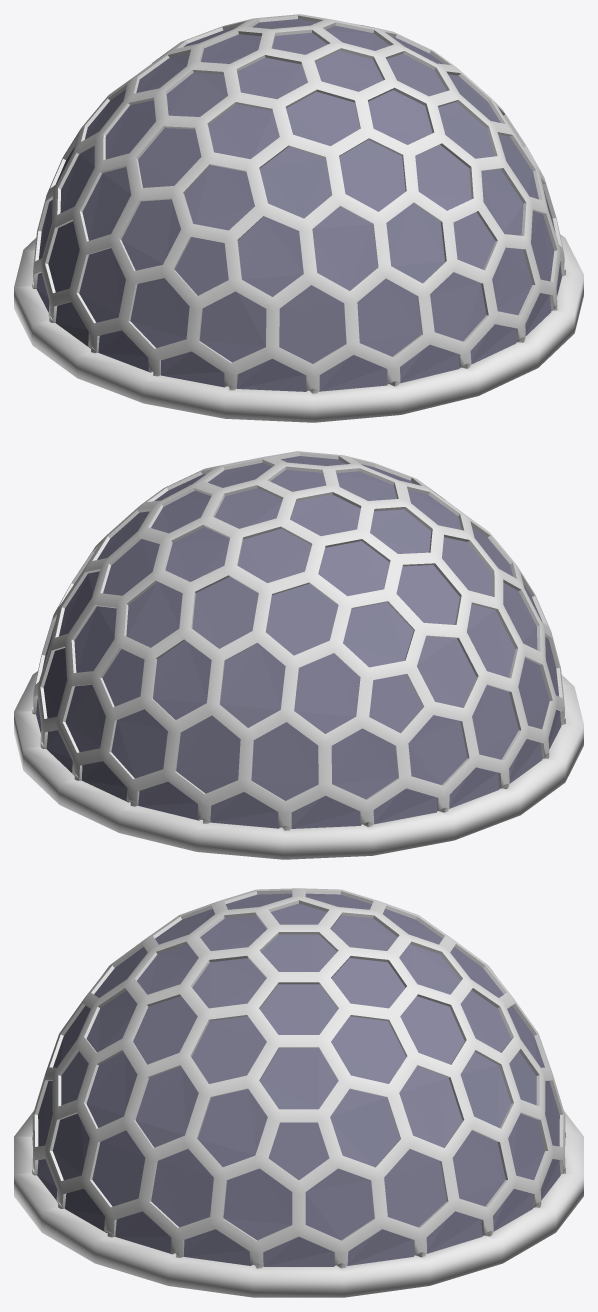
File: Dome.fbx
3 views of the same model, one above another, from view 1: azimuth 30°, elevation 25°; view 2: azimuth 150°, elevation 25°; view 3: azimuth 270°, elevation 25° (orthographic).
Visible parts, largest first — view 1: Object007, GeoSphere003, GeoSphere004; view 2: Object007, GeoSphere003, GeoSphere004; view 3: Object007, GeoSphere003, GeoSphere004.
Part boxes in pixels (x1=…): Object007: x1=36, y1=19, x2=561, y2=391; GeoSphere003: x1=32, y1=14, x2=565, y2=393; GeoSphere004: x1=14, y1=234, x2=583, y2=422; Object007: x1=36, y1=456, x2=561, y2=828; GeoSphere003: x1=32, y1=451, x2=565, y2=830; GeoSphere004: x1=14, y1=671, x2=583, y2=859; Object007: x1=37, y1=893, x2=560, y2=1266; GeoSphere003: x1=32, y1=888, x2=565, y2=1268; GeoSphere004: x1=14, y1=1111, x2=583, y2=1297.
Size of the model in its own units: 23.96 by 14.72 by 23.96.
